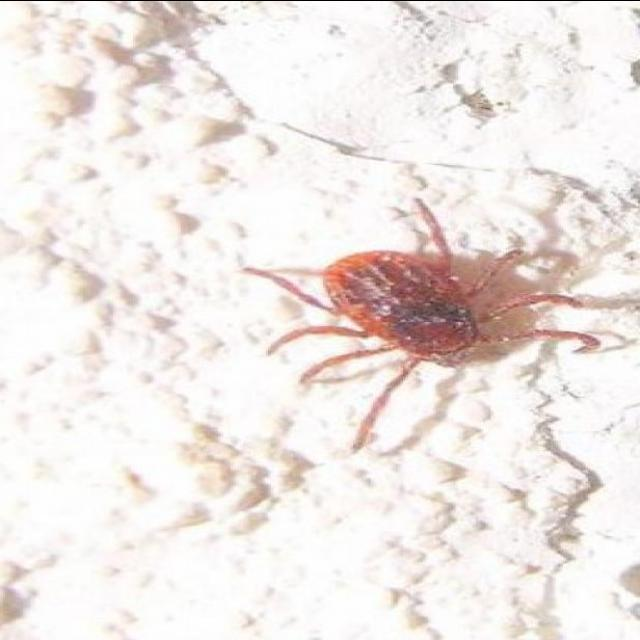Rhipicephalus Sanguineus-F: (241, 197, 601, 451)
